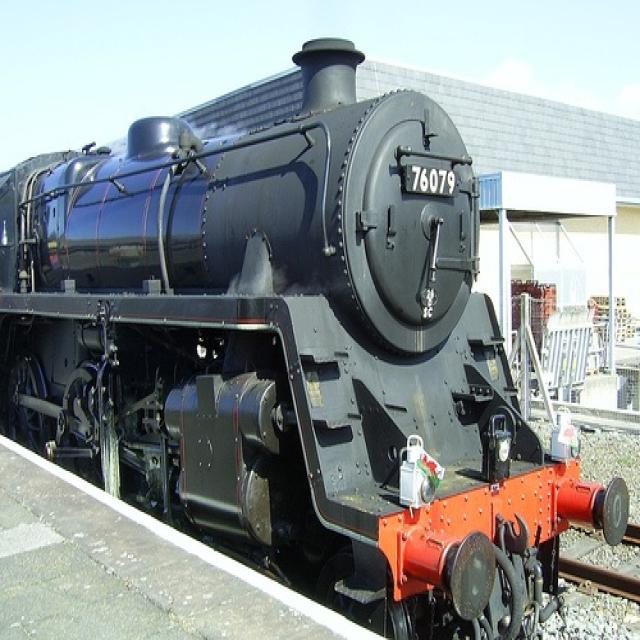train: (1, 28, 614, 634)
